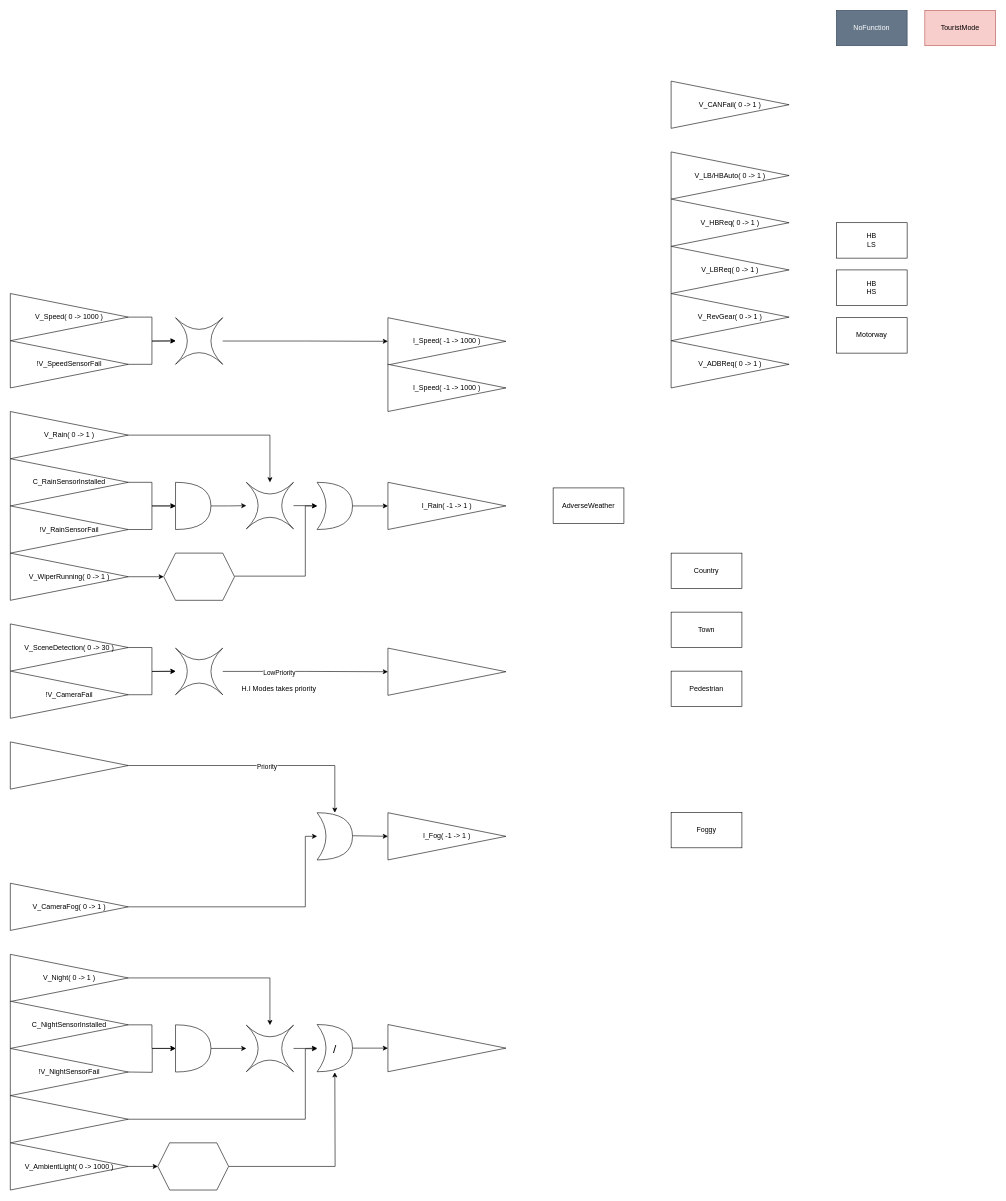
The diagram is 1006 pixels wide and 1201 high, and some of its shapes have lost their labels. The shapes that lost their labels are listed below. From the top down, each one's centre as x and y in pixels, then its label:
At (199,576): "x TimeElapsed".
At (446,671): "I_SceneDetection( -1 -> 30 )".
At (69,765): "V_FogSwitch( 0 -> 1 )".
At (446,1048): "I_Night( -1 -> 1 )".
At (69,1119): "V_CameraNight( 0 -> 1 )".
At (193,1166): "Above x Threshold".
